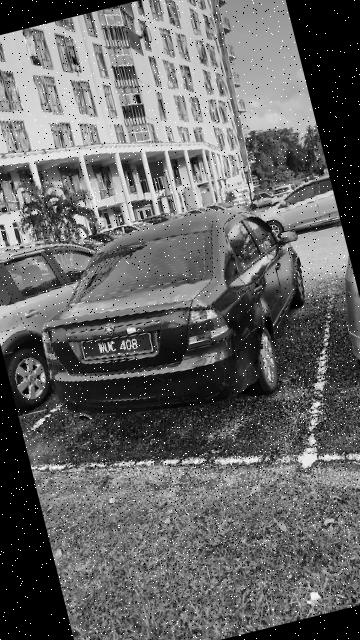License_Plate: (76, 319, 160, 374)
car: (26, 187, 333, 440), (1, 224, 142, 419)
